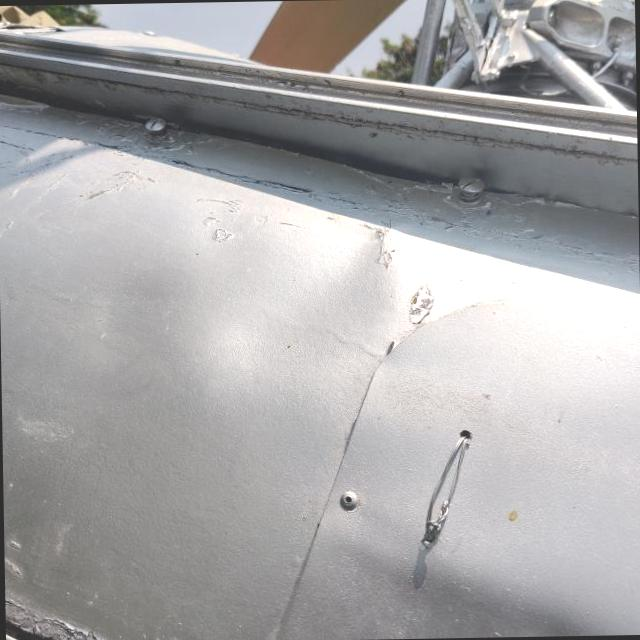dent: (216, 193, 435, 405)
